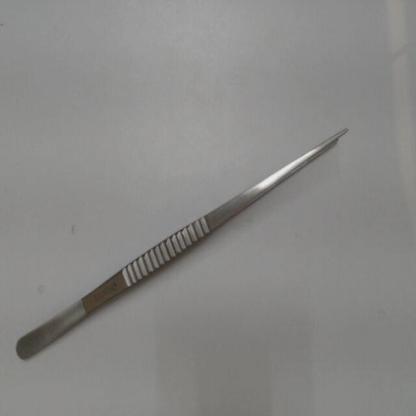DeBakey Dissector: (10, 101, 374, 370)
